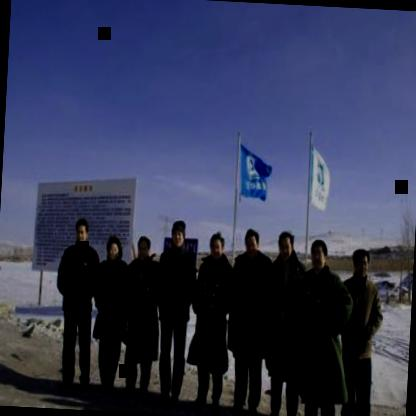head: (349, 244, 371, 287), (306, 238, 331, 275), (207, 229, 230, 263), (275, 227, 298, 261), (169, 217, 190, 250), (105, 233, 123, 265), (72, 217, 90, 245), (244, 227, 260, 258), (136, 233, 152, 262)
